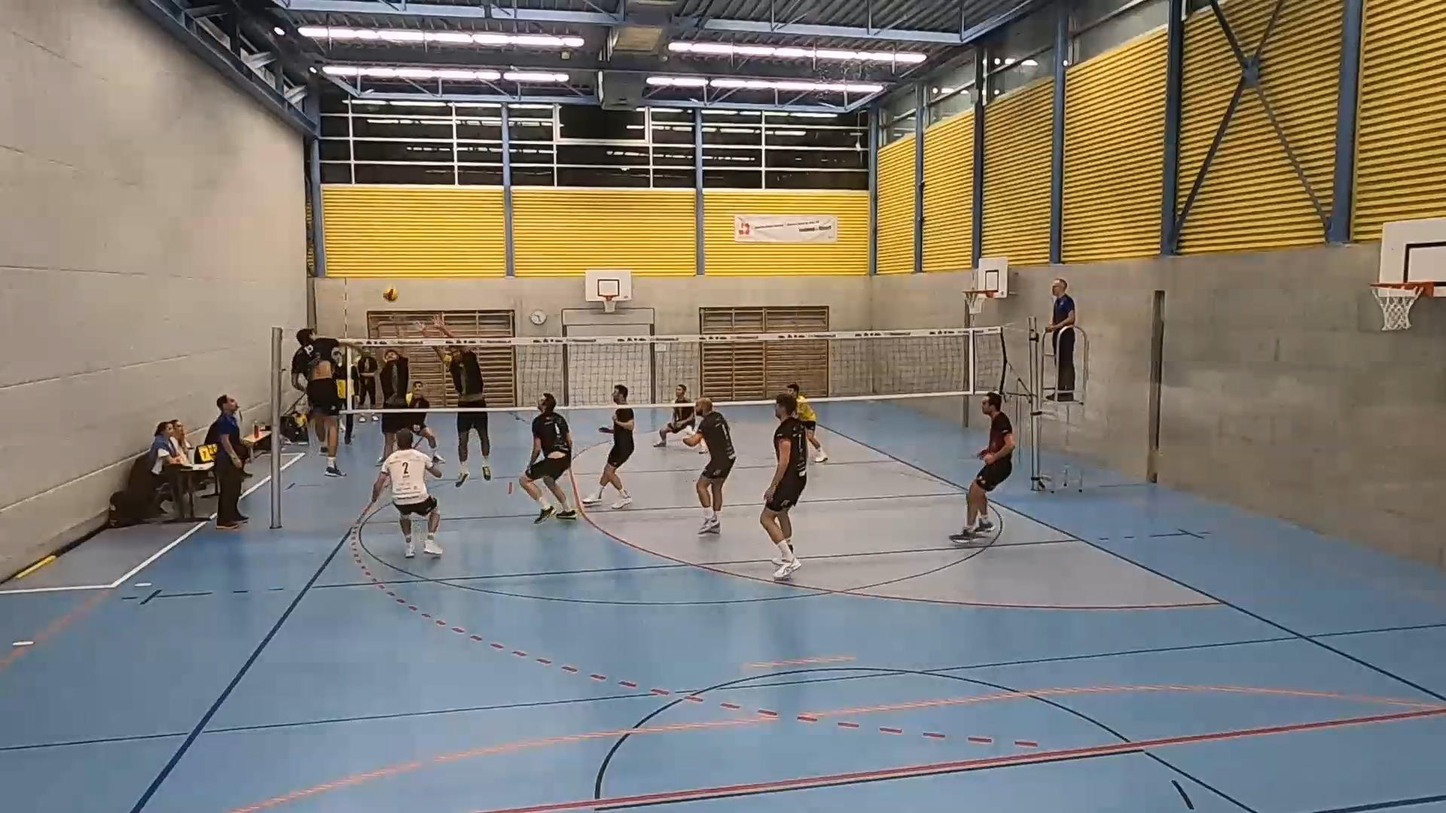Attack: (289, 324, 384, 474)
Block: (415, 309, 494, 488), (362, 307, 417, 478)
Player: (950, 392, 1014, 545), (368, 428, 443, 557), (760, 393, 807, 580), (520, 393, 577, 522), (683, 397, 735, 534), (582, 384, 635, 508), (786, 382, 828, 463), (407, 382, 445, 463), (654, 383, 694, 447)
ball: (382, 284, 398, 302)
